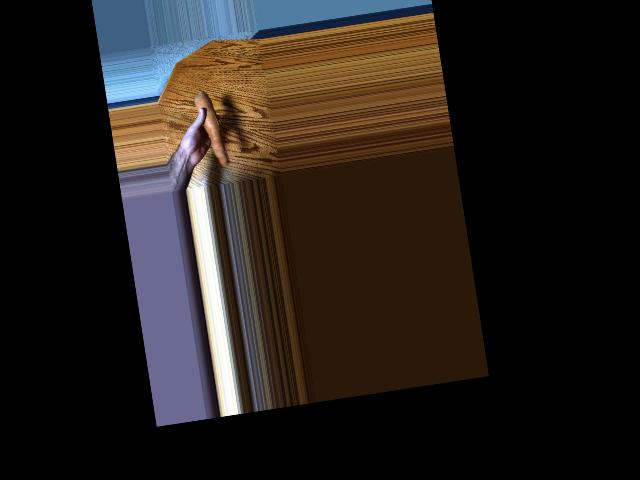sweet_potato: (200, 90, 226, 168)
